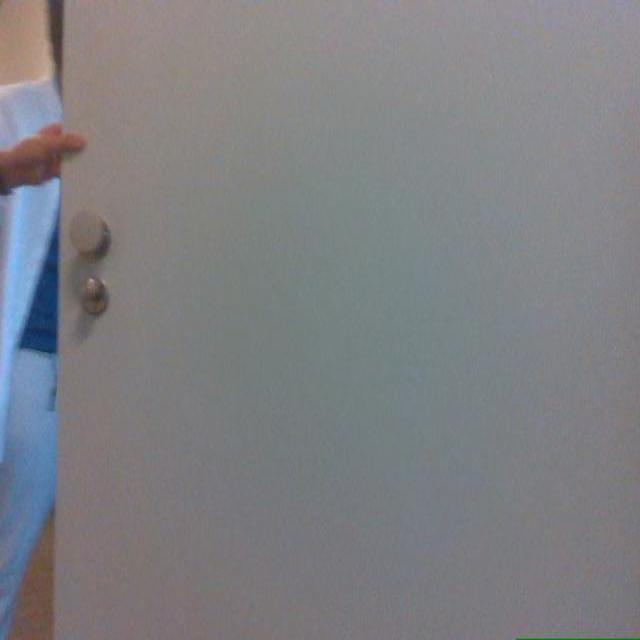humans: (0, 0, 84, 639)
objects: (55, 0, 639, 639)
